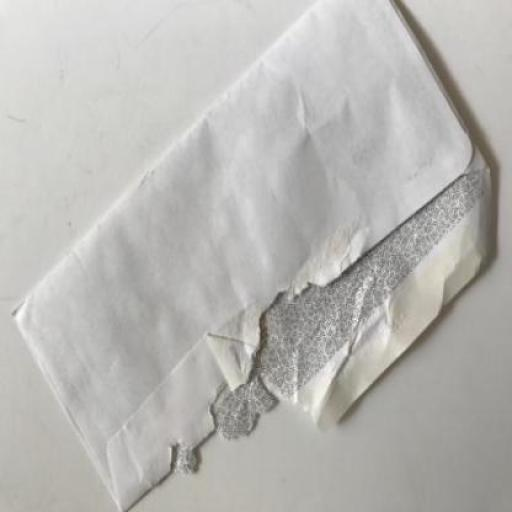paper: (11, 0, 489, 508)
